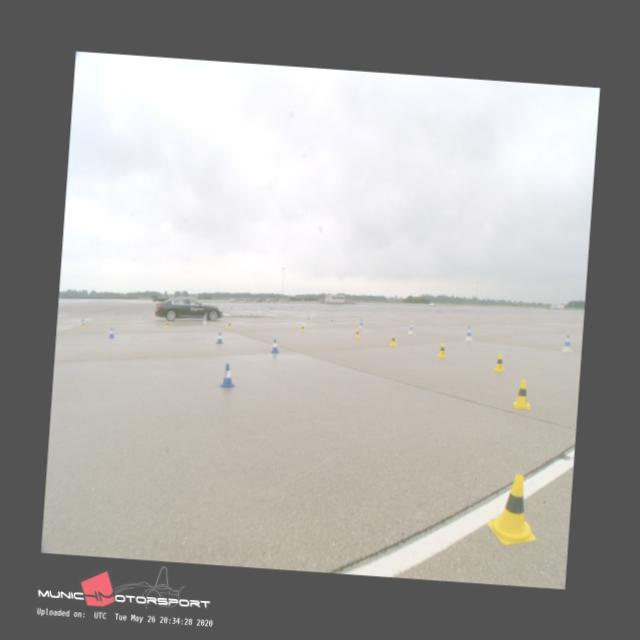blue_cone: (219, 362, 236, 387), (269, 338, 280, 352), (215, 332, 223, 343), (107, 328, 115, 338)
yellow_cone: (486, 472, 540, 546), (512, 379, 532, 409), (492, 352, 506, 371), (436, 342, 446, 356), (389, 334, 397, 346), (354, 328, 359, 338), (164, 320, 170, 328), (300, 324, 305, 332), (228, 321, 232, 328), (80, 321, 84, 328)
